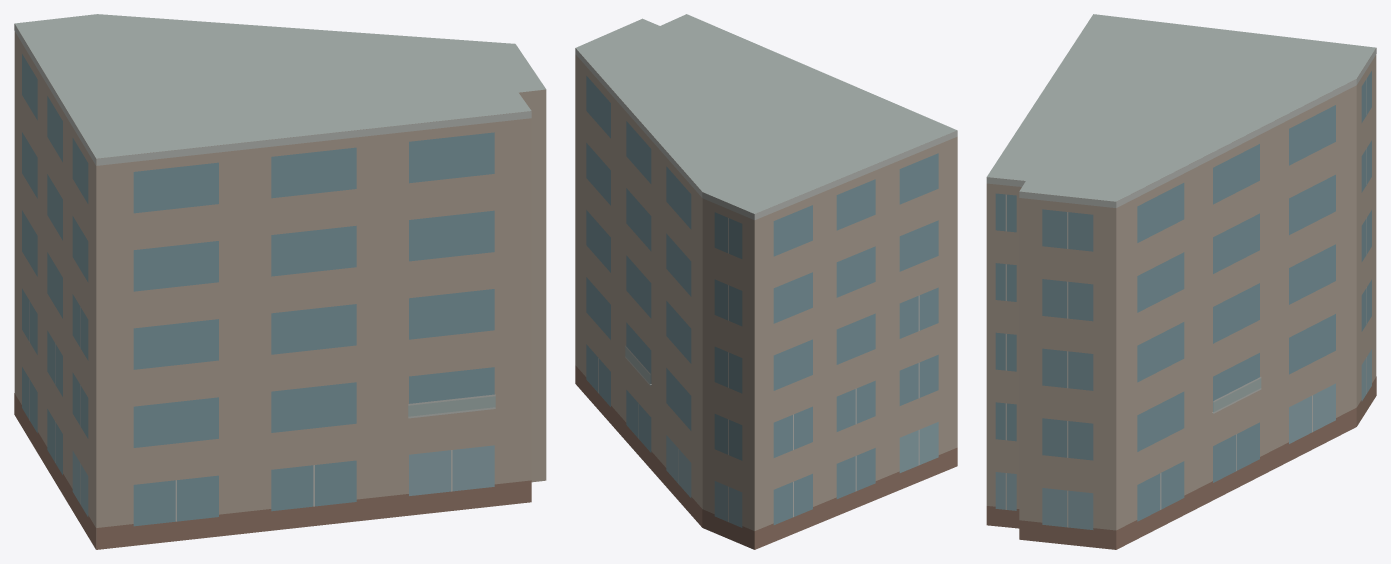
Rendered from survey-upis-32944079.glb.
3 views of the same model, side by side, from view 1: azimuth 30°, elevation 25°; view 2: azimuth 150°, elevation 25°; view 3: azimuth 270°, elevation 25° (orthographic). The views are drawn at different scales.
Visible parts, largest first — view 1: survey-upis-32944079.tmp; view 2: survey-upis-32944079.tmp; view 3: survey-upis-32944079.tmp.
Part boxes in pixels (bbox=[...]): survey-upis-32944079.tmp: bbox=[14, 14, 546, 549]; survey-upis-32944079.tmp: bbox=[575, 14, 957, 549]; survey-upis-32944079.tmp: bbox=[986, 14, 1376, 549].
Size of the model in its own units: 15.27 by 13.2 by 13.41.
